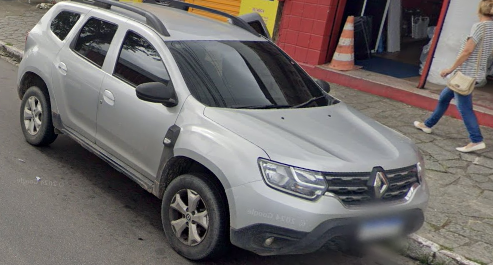car: (20, 2, 432, 259)
